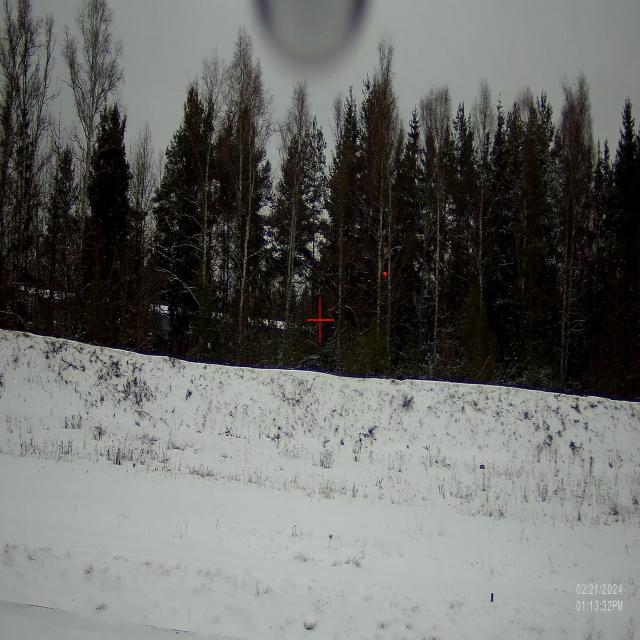entire: (380, 262, 392, 283)
